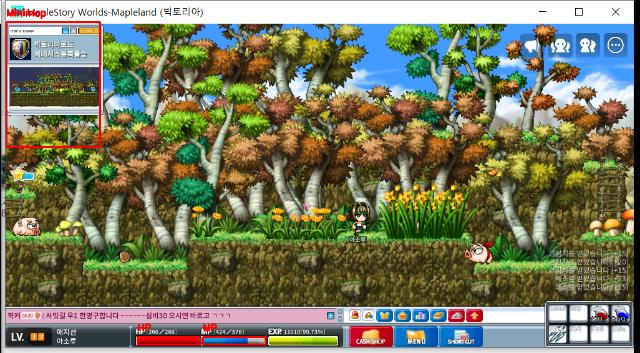me: (342, 192, 374, 246)
pig: (463, 235, 501, 265), (13, 214, 42, 236)
